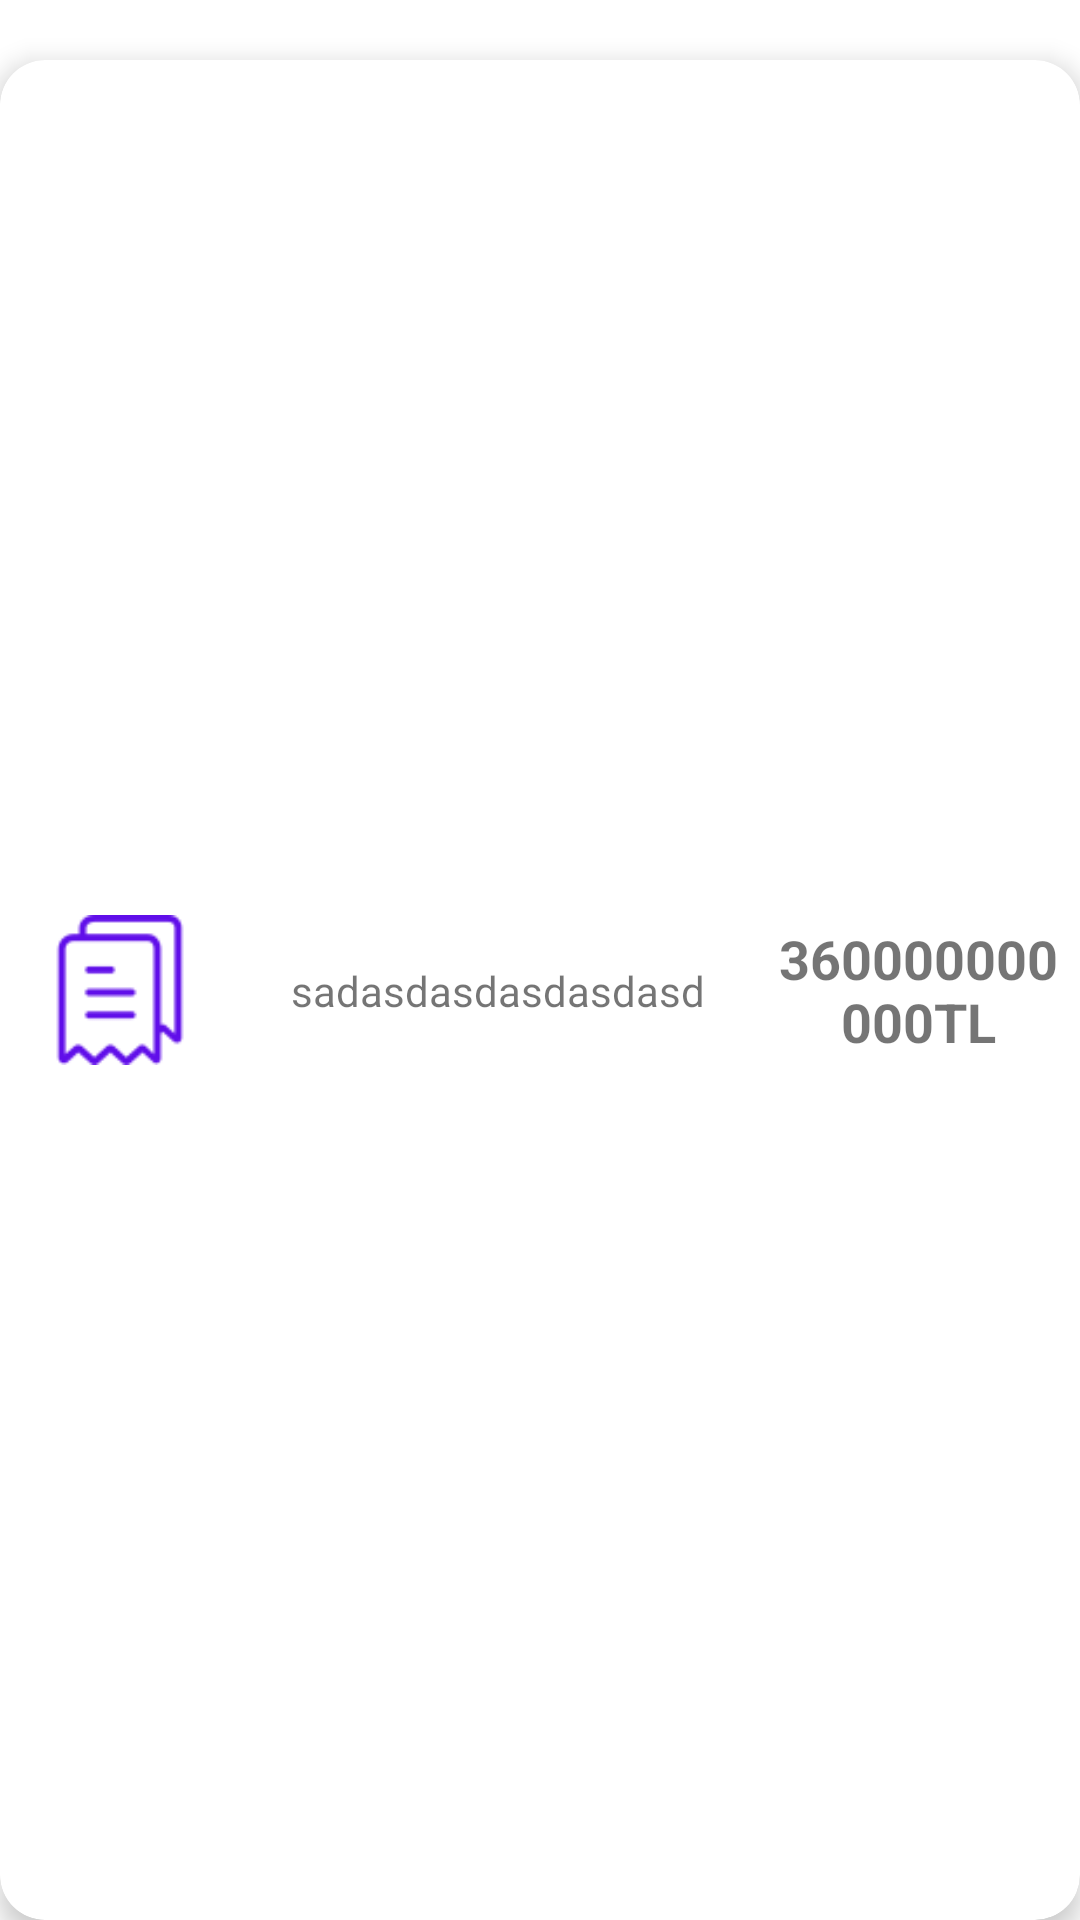

Icons on this 1080x1920 Android screen, each with its box as (x1, y1, x2, y2):
bill: (56, 915, 184, 1065)
